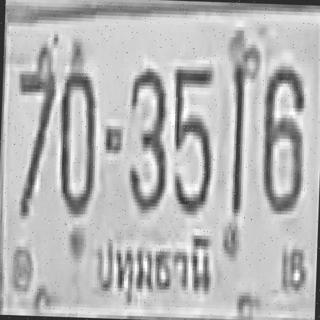N00: (56, 60, 96, 212)
N01: (226, 28, 258, 191)
N03: (125, 64, 168, 210)
N05: (168, 62, 212, 212)
N06: (258, 62, 305, 212)
N07: (12, 50, 55, 216)
P38: (88, 225, 215, 306)
